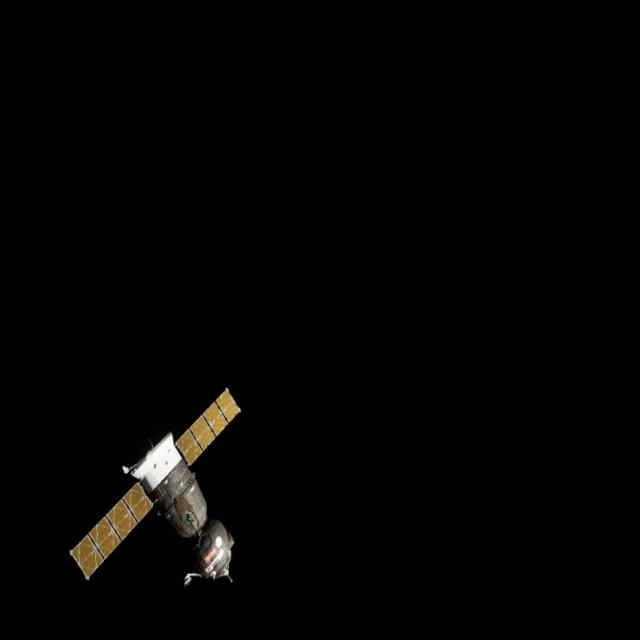Satellites revolving around earth: (66, 380, 244, 592)
